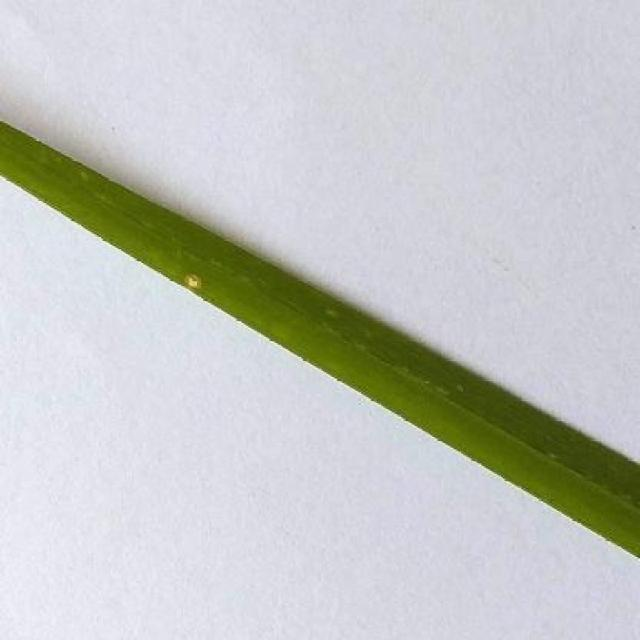Bacterial_Leaf_Blight: (181, 258, 202, 297)
